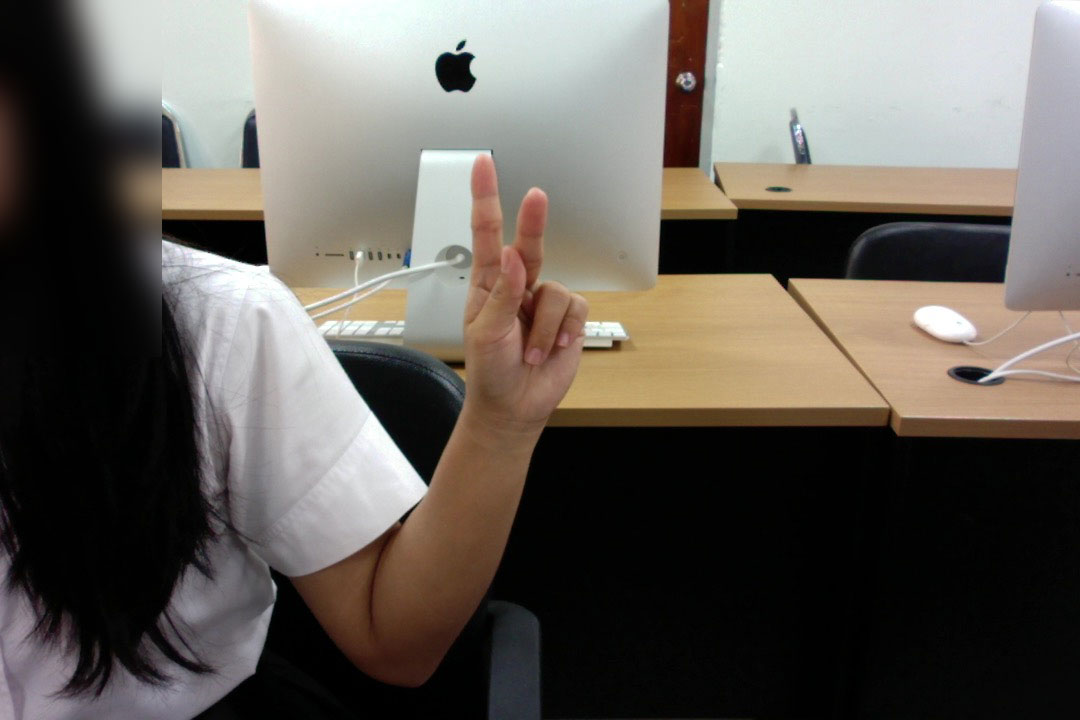ko: (451, 143, 596, 448)
